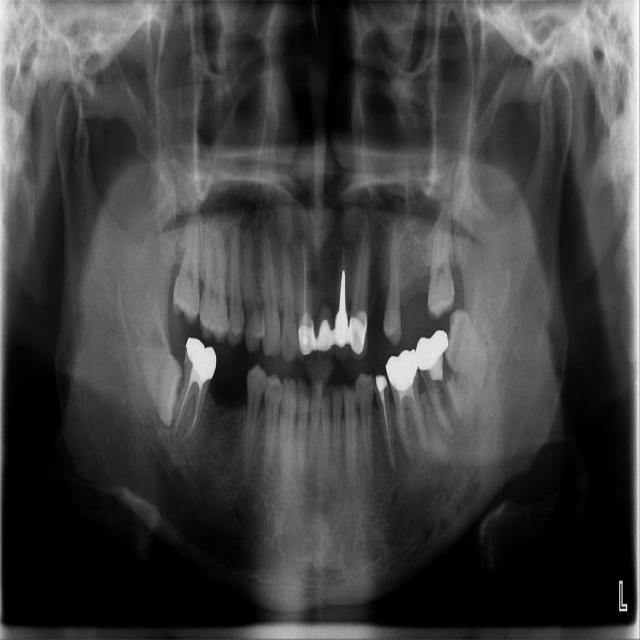52: (294, 303, 370, 366), (412, 327, 456, 390), (382, 347, 426, 405), (181, 335, 219, 390), (374, 367, 391, 411)
73: (421, 360, 469, 443), (168, 365, 212, 450), (391, 383, 433, 467), (378, 404, 397, 477), (297, 237, 313, 320), (336, 240, 350, 317), (600, 583, 604, 589)
BioHorizons Implant: (426, 199, 462, 321)
Biomet 3i Implant: (444, 309, 489, 385)
Blue Sky Bio Implant: (411, 327, 467, 441)
Caries: (171, 191, 207, 327)
Implant: (170, 336, 220, 450)
Keystone Dental Implant: (130, 331, 201, 431)
